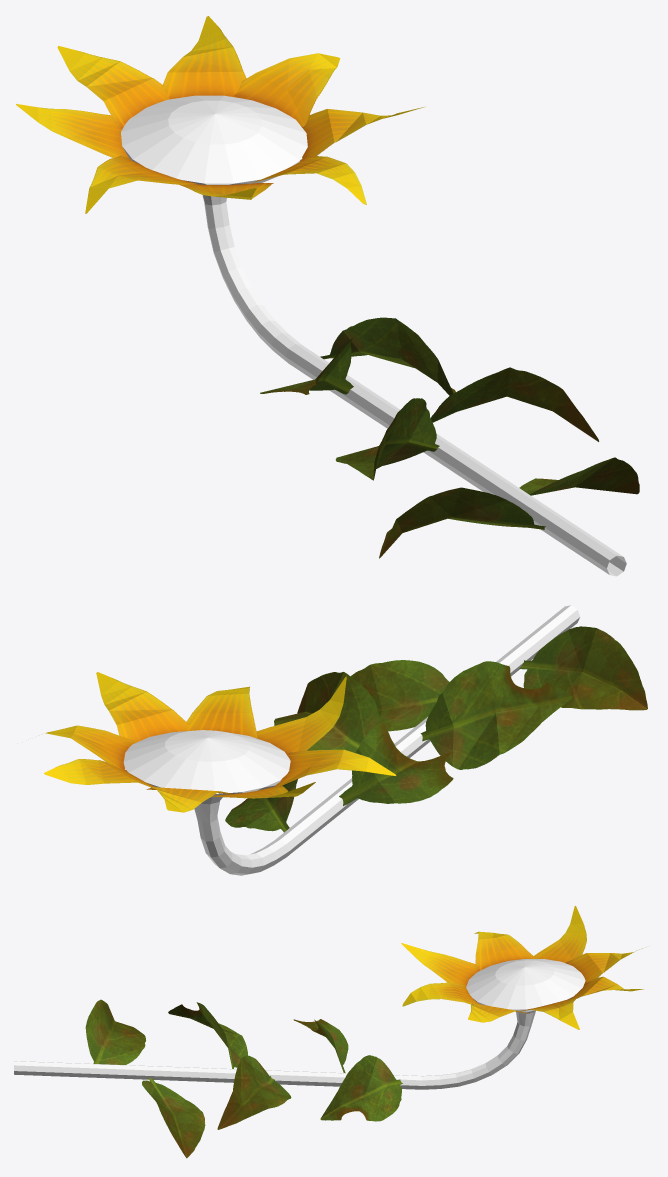
The model's file is FlowerSunCa.fbx.
3 renders of one model, top to bottom at view 1: azimuth 30°, elevation 25°; view 2: azimuth 150°, elevation 25°; view 3: azimuth 270°, elevation 25°, orthographic. The views are drawn at different scales.
Visible parts, largest first — view 1: w5_gismo_FlowerSunCa; view 2: w5_gismo_FlowerSunCa; view 3: w5_gismo_FlowerSunCa.
Boxes of the visible parts, box(x1,y1,x2,y2) form: w5_gismo_FlowerSunCa: box(16, 16, 639, 576); w5_gismo_FlowerSunCa: box(44, 605, 647, 875); w5_gismo_FlowerSunCa: box(14, 906, 643, 1158).
Bounding box in the file's own units: 0.6821 × 1.75 × 0.4754.
Materials: 2 (1 with a texture image).
